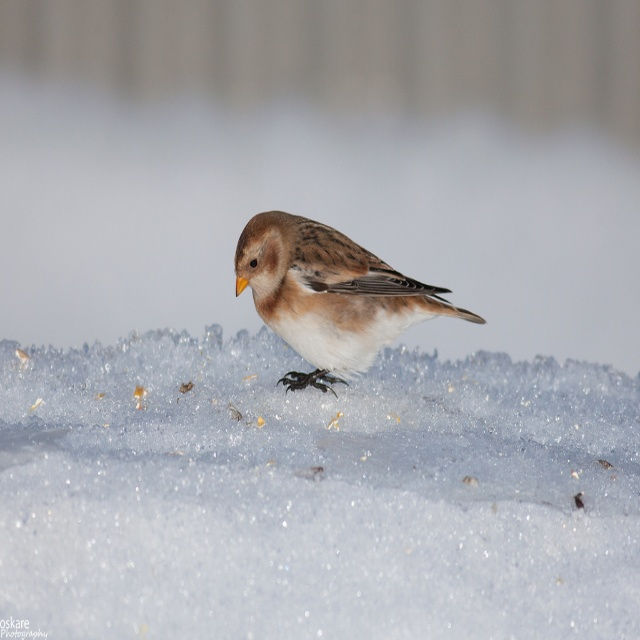Sparrow: (234, 210, 487, 399)
